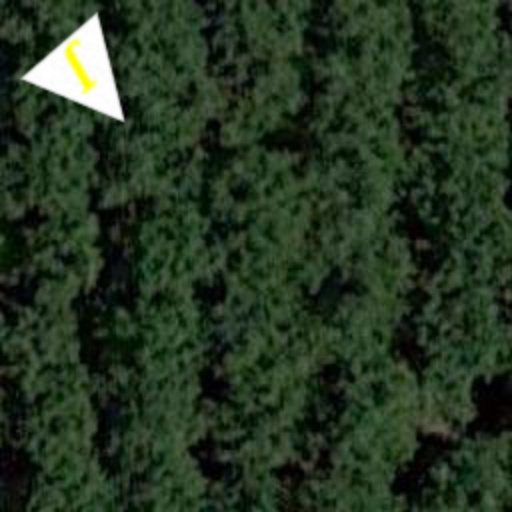triangle: (20, 12, 164, 156)
